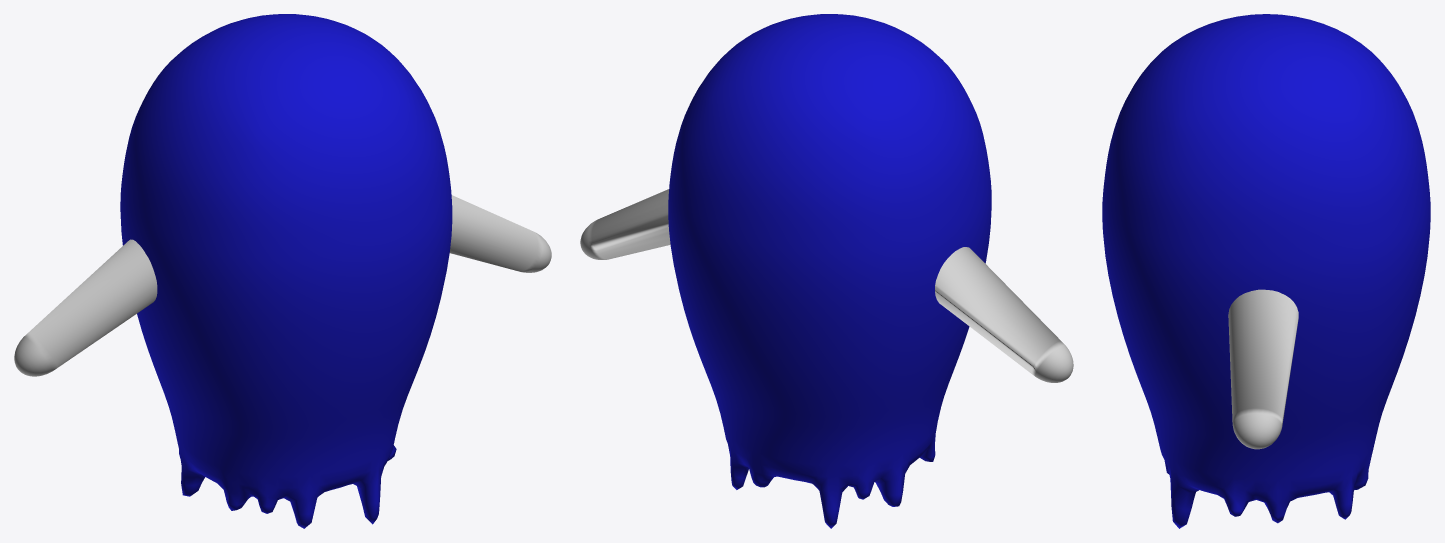
File: beforeThrow_00006.obj
3 views of the same model, side by side, from view 1: azimuth 30°, elevation 25°; view 2: azimuth 150°, elevation 25°; view 3: azimuth 270°, elevation 25° (orthographic). The views are drawn at different scales.
Visible parts, largest first — view 1: Cube, Sphere.001, Sphere; view 2: Cube, Sphere.001, Sphere; view 3: Cube, Sphere.
Boxes of the visible parts, <box> form: Cube: <box>120,14,452,528</box>; Sphere.001: <box>14,239,157,376</box>; Sphere: <box>449,195,551,272</box>; Cube: <box>668,14,991,528</box>; Sphere.001: <box>935,247,1073,382</box>; Sphere: <box>580,189,670,259</box>; Cube: <box>1102,14,1430,528</box>; Sphere: <box>1228,289,1298,449</box>.
Bounding box in the file's own units: 0.5227 × 0.4581 × 0.2859.
